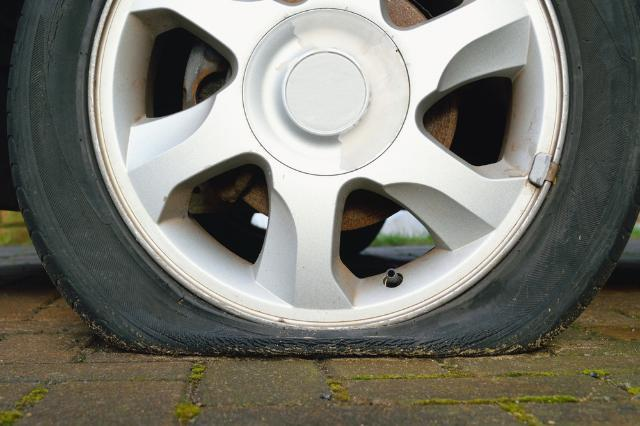tire flat: (6, 0, 640, 359)
